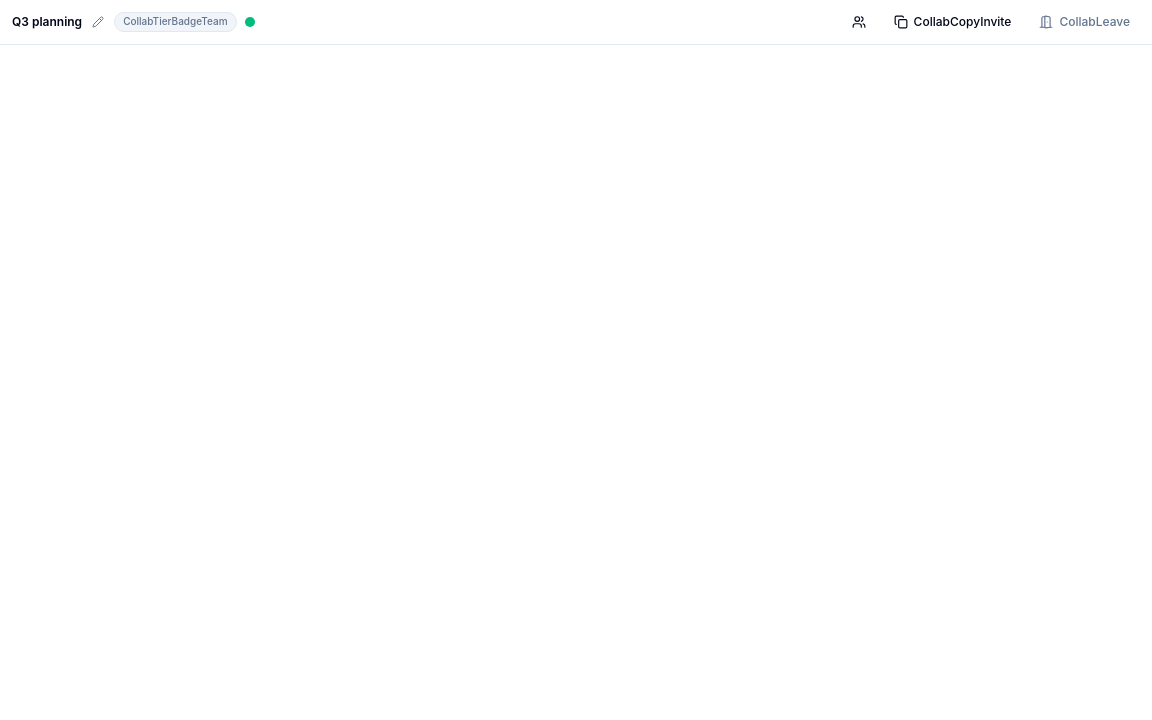
SessionChrome — leave modal (087) › Stay closes the modal without leaving
Click the button with test id "collab-leave" at x=1085, y=22, box [1029,6,1140,38]
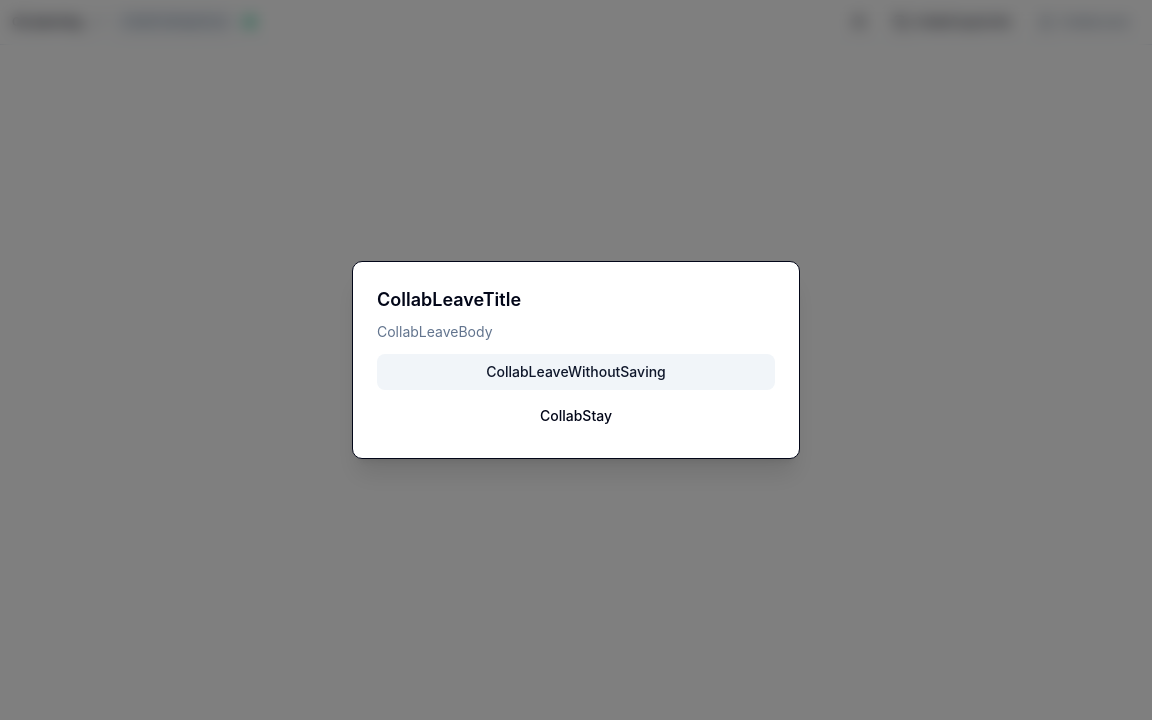
Expected: the element with test id "collab-leave-modal" is shown, [377,322,775,434]
Click the button with test id "collab-leave-stay" at x=576, y=416, box [377,398,775,434]
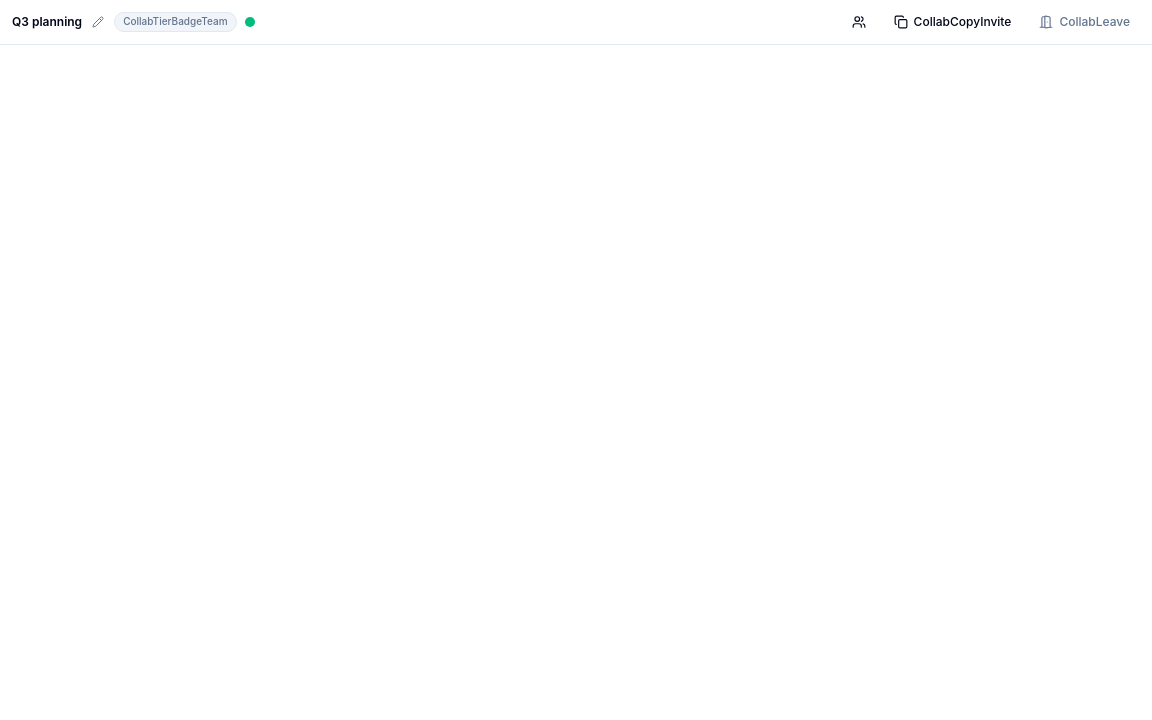
Expected: the element with test id "collab-leave-modal" is gone
